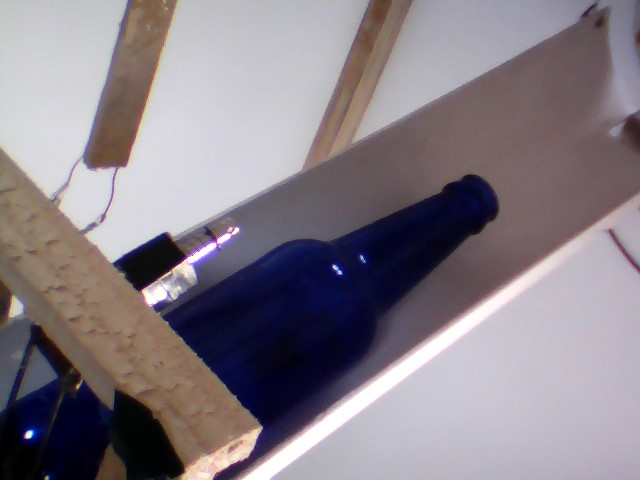vidrio: (181, 166, 506, 434)
